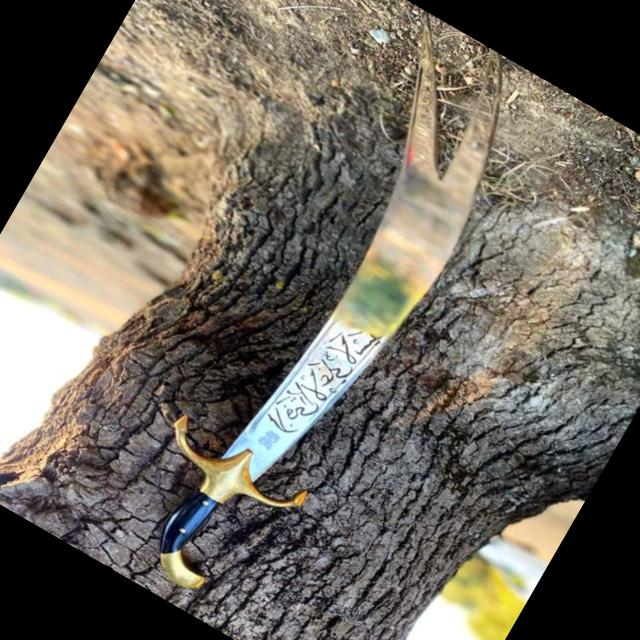Weapon: (74, 0, 558, 633)
